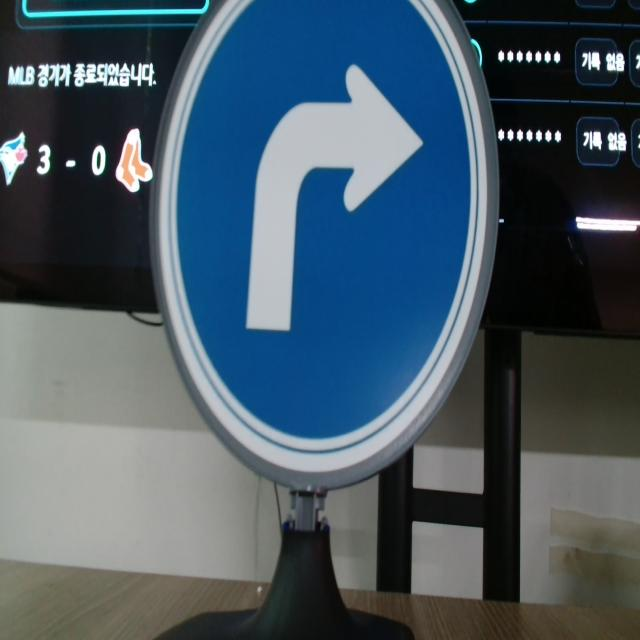right_dierection: (147, 7, 500, 494)
